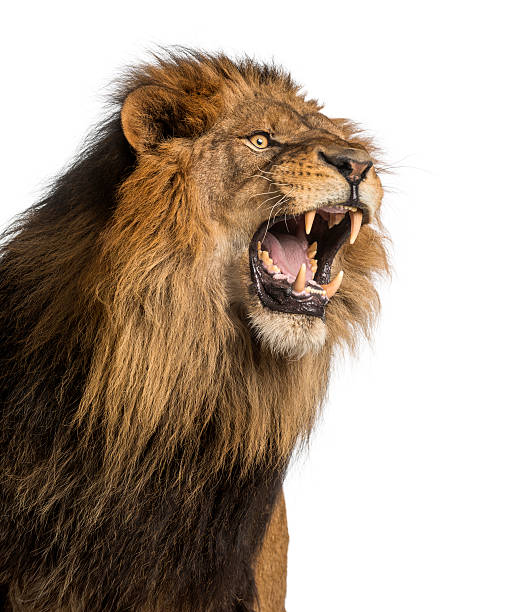lion: (5, 25, 405, 555)
